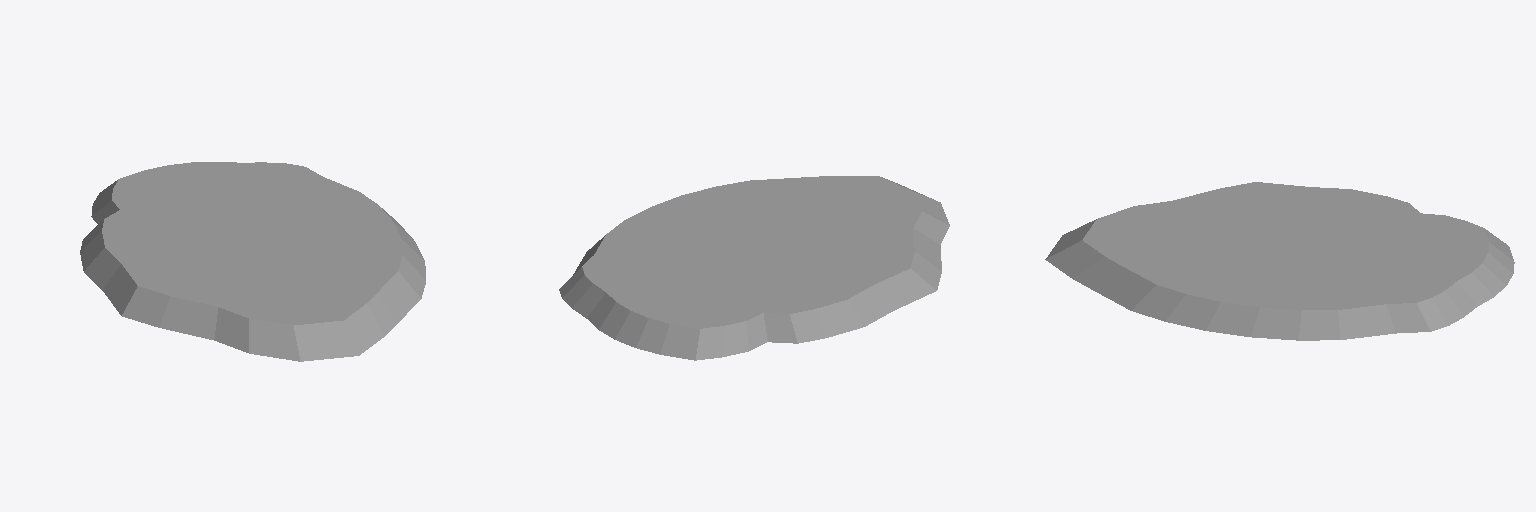
The model's file is Pond.obj.
The picture shows the model from 3 angles: view 1: azimuth 30°, elevation 25°; view 2: azimuth 150°, elevation 25°; view 3: azimuth 270°, elevation 25°; orthographic projection.
Visible parts, largest first — view 1: Circle.001; view 2: Circle.001; view 3: Circle.001.
Part boxes in pixels (x1,y1,x2,y2): Circle.001: (80,162,425,361); Circle.001: (559,176,949,360); Circle.001: (1045,182,1514,340).
Size of the model in its own units: 1.77 by 0.1179 by 2.36.